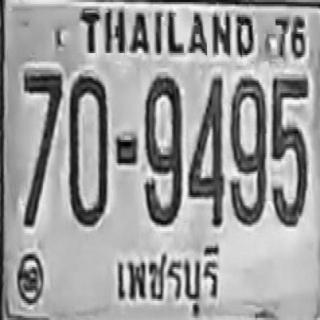N00: (68, 73, 108, 226)
N04: (188, 73, 224, 226)
N05: (271, 75, 309, 226)
N07: (23, 71, 62, 226)
N09: (144, 74, 182, 225), (230, 76, 266, 225)
P44: (115, 236, 220, 317)
